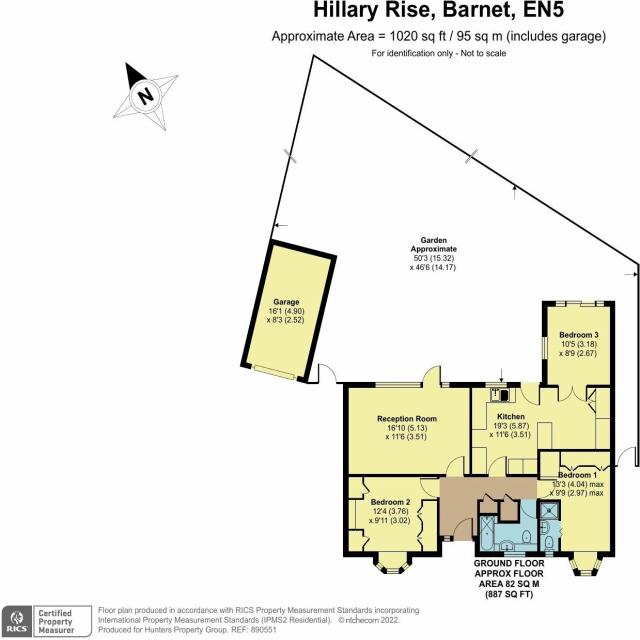DOOR: (452, 517, 473, 542), (520, 382, 541, 406), (487, 455, 508, 477), (422, 365, 442, 388), (419, 477, 440, 498), (445, 455, 465, 477), (537, 479, 557, 499), (520, 499, 537, 519)
ROOM: (343, 365, 472, 477), (469, 382, 616, 478), (536, 449, 615, 577), (343, 474, 442, 575), (542, 300, 616, 403)
WINDOW: (374, 381, 421, 388), (542, 337, 548, 360), (504, 551, 526, 557), (485, 382, 507, 388), (592, 558, 602, 571), (569, 558, 578, 571), (375, 561, 384, 571), (401, 561, 410, 571), (386, 568, 399, 574), (580, 570, 592, 576), (442, 381, 450, 388), (545, 551, 554, 557), (444, 535, 450, 542)
